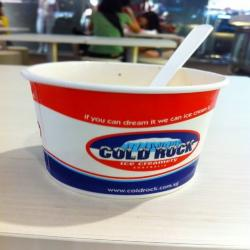icecream: (10, 23, 241, 207)
